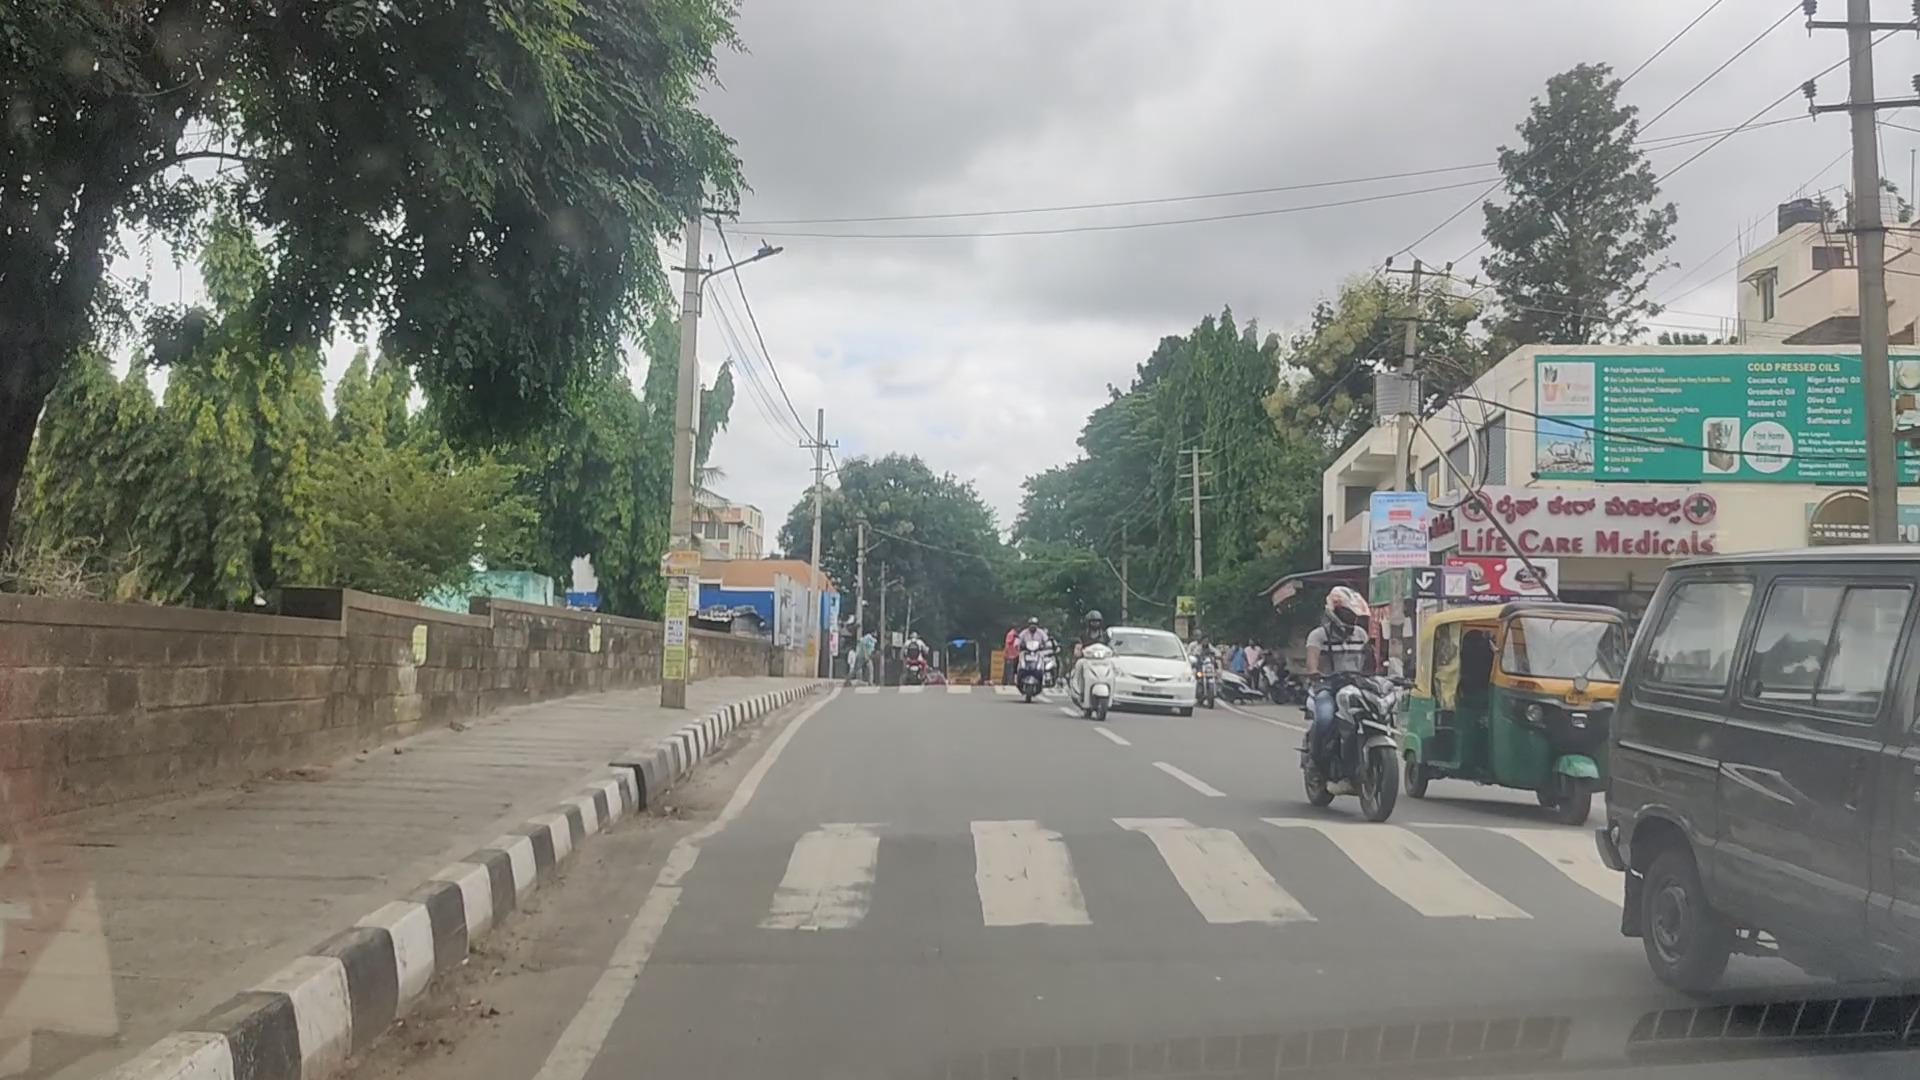SpeedBump: (653, 770, 1582, 956)
